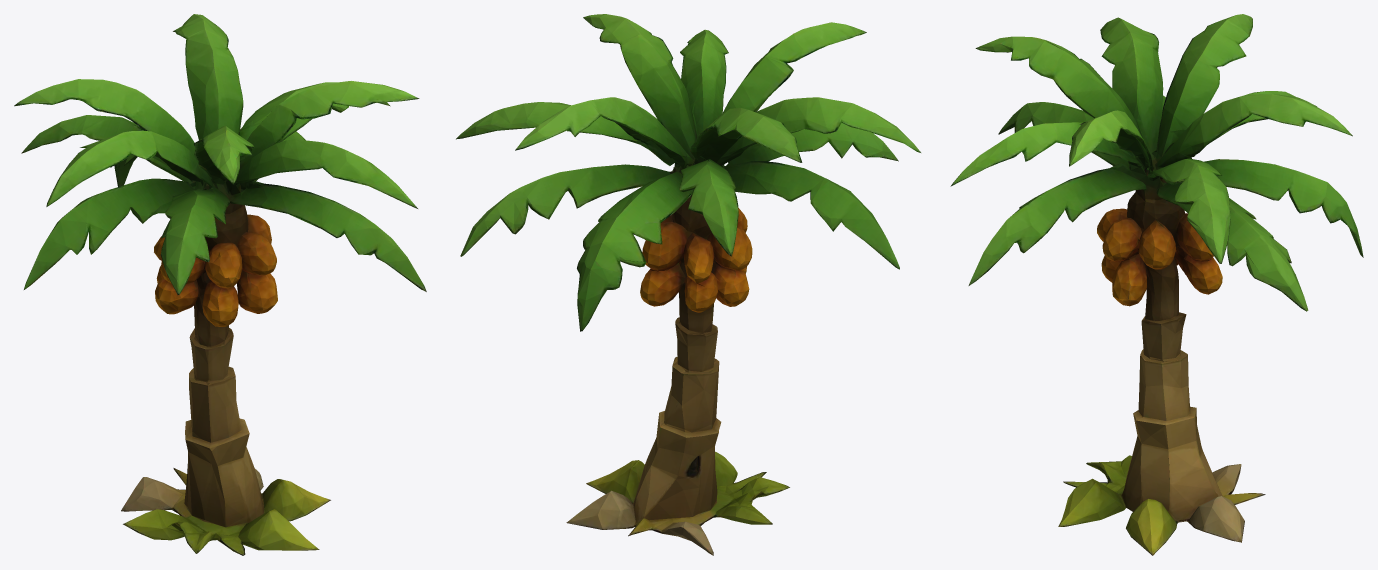
File: palm_tree.glb
3 renders of one model, left to right at view 1: azimuth 30°, elevation 25°; view 2: azimuth 150°, elevation 25°; view 3: azimuth 270°, elevation 25°, orthographic. The views are drawn at different scales.
Visible parts, largest first — view 1: world; view 2: world; view 3: world.
Boxes of the visible parts, bbox=[...] form: world: bbox=[14, 14, 426, 555]; world: bbox=[456, 14, 920, 555]; world: bbox=[950, 14, 1363, 555].
Size of the model in its own units: 0.9121 by 0.973 by 0.8282.
1 material, 1 textured.
